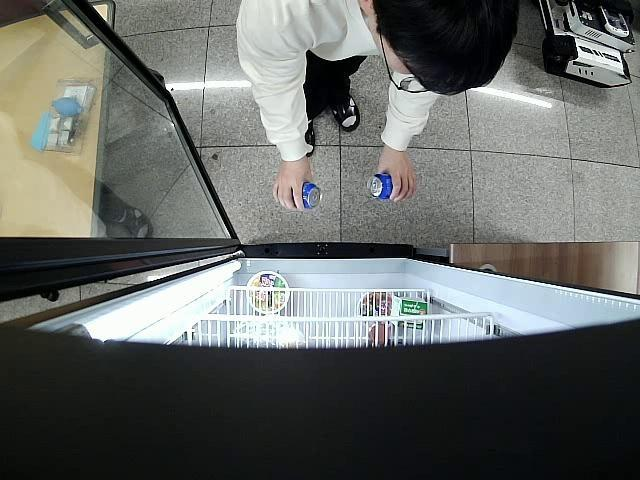13_pocariSweat: (368, 171, 393, 200), (298, 180, 322, 209)
